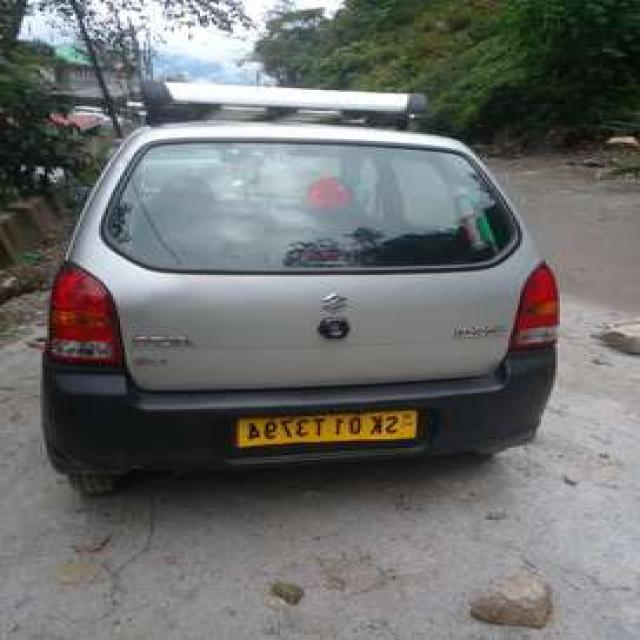license_plate: (227, 402, 424, 455)
